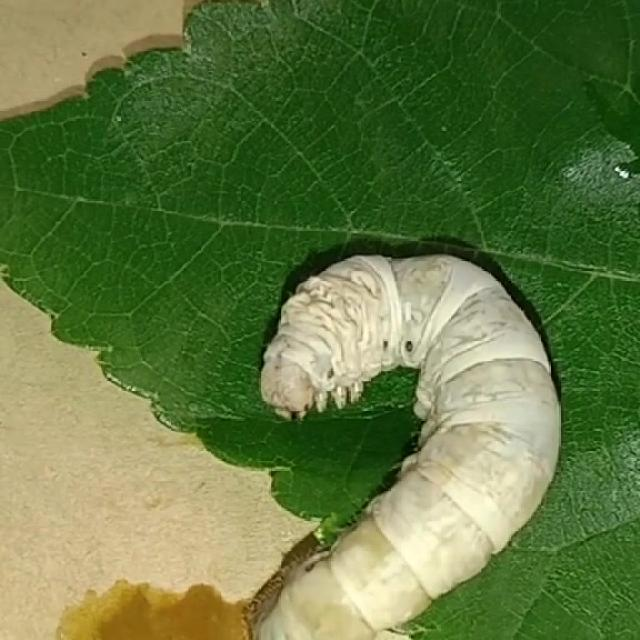Grasserie: (236, 234, 570, 640)
